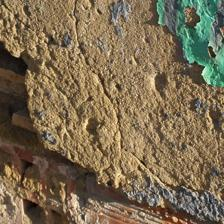Crack: (3, 39, 102, 179), (71, 4, 126, 147), (134, 154, 223, 218)
